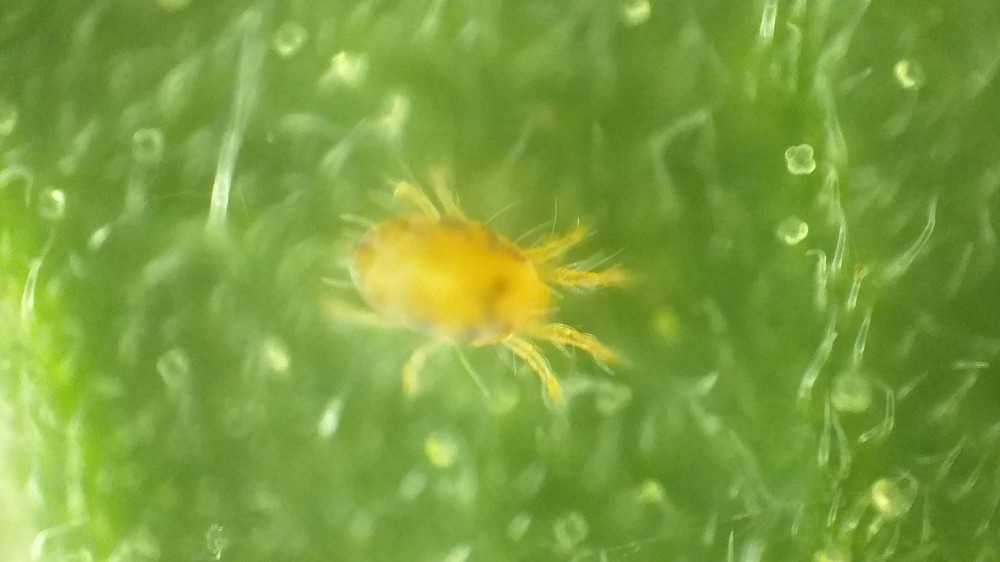Aracnido Rojo: (299, 174, 655, 421)
